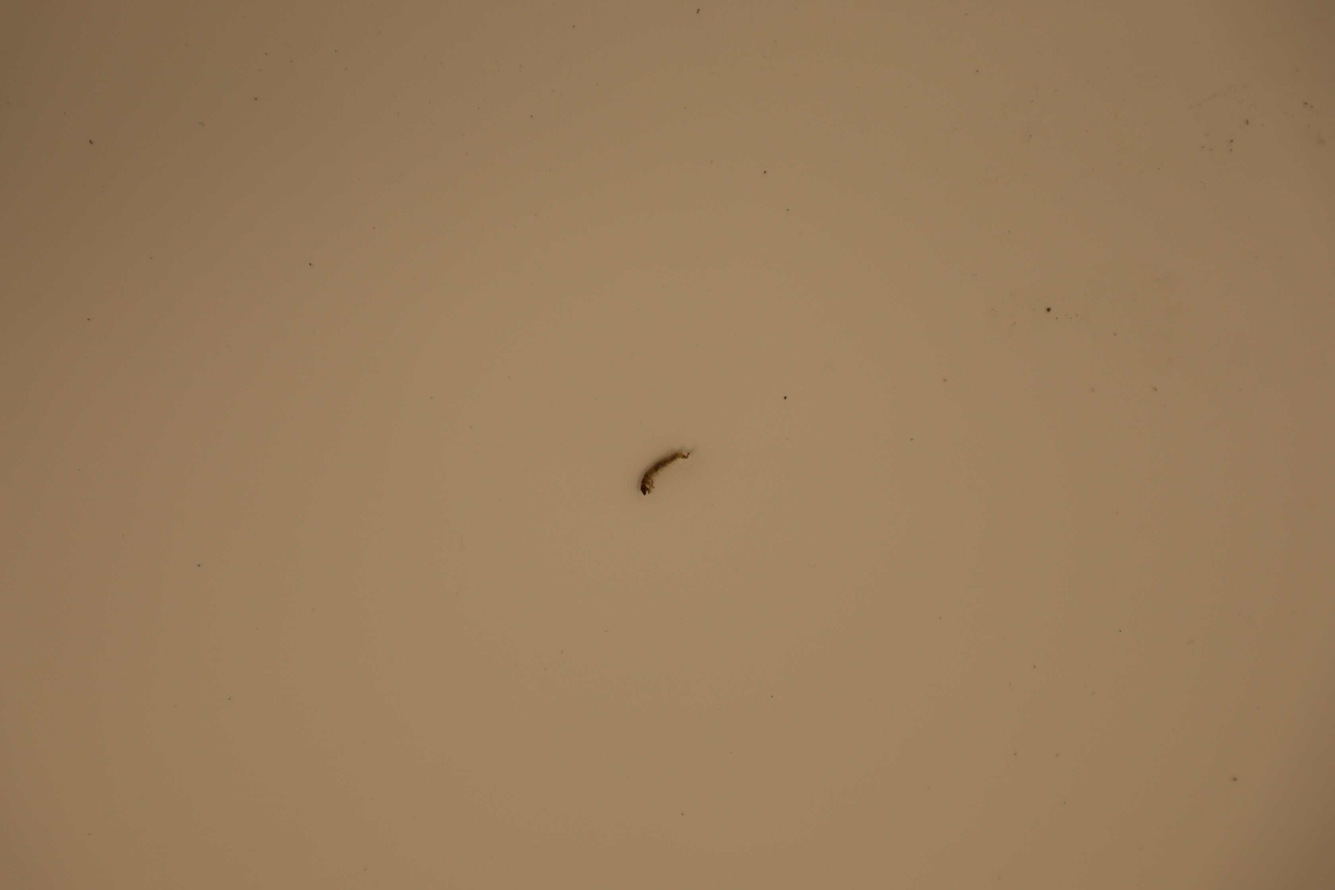Cadisfly: (632, 447, 694, 495)
